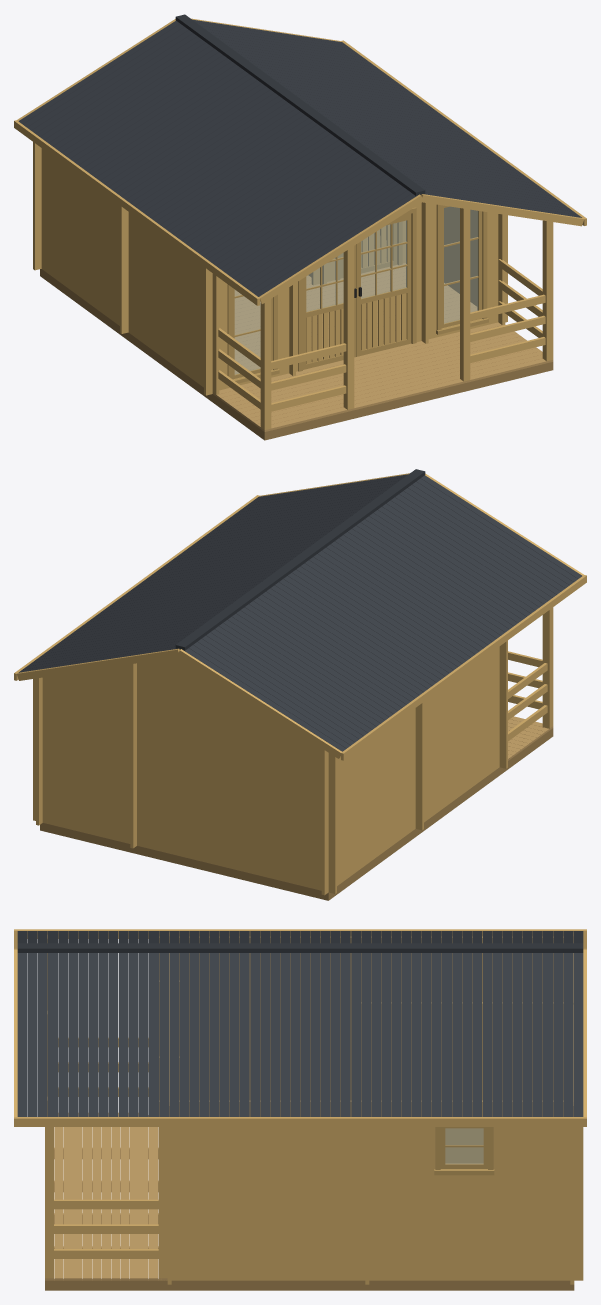
Rendered from апсны_4_5_4_5_44_мм_терраса_санузел.glb.
3 views of the same model, one above another, from view 1: azimuth 30°, elevation 25°; view 2: azimuth 150°, elevation 25°; view 3: azimuth 270°, elevation 25° (orthographic). The views are drawn at different scales.
Parts seen in each view (by area): view 1: roof, walls, terrace, Апсны 4,5×4,5 (44 мм, терраса, санузел), floor, object 33, object 58, object 47, object 15, object 41, object 21, object 61 (+3 smaller); view 2: roof, walls, Апсны 4,5×4,5 (44 мм, терраса, санузел), terrace; view 3: roof, walls, terrace, Апсны 4,5×4,5 (44 мм, терраса, санузел), object 91.
Part boxes in pixels (x1=…): roof: x1=14, y1=14, x2=586, y2=305; walls: x1=33, y1=142, x2=507, y2=395; terrace: x1=212, y1=208, x2=553, y2=431; Апсны 4,5×4,5 (44 мм, терраса, санузел): x1=40, y1=269, x2=553, y2=440; floor: x1=234, y1=233, x2=477, y2=373; object 33: x1=361, y1=220, x2=406, y2=298; object 58: x1=444, y1=207, x2=477, y2=323; object 47: x1=235, y1=290, x2=260, y2=374; object 15: x1=306, y1=253, x2=343, y2=311; object 41: x1=411, y1=207, x2=416, y2=343; object 21: x1=406, y1=213, x2=411, y2=344; object 61: x1=436, y1=205, x2=441, y2=330; roof: x1=14, y1=469, x2=586, y2=760; walls: x1=33, y1=640, x2=507, y2=895; Апсны 4,5×4,5 (44 мм, терраса, санузел): x1=40, y1=728, x2=553, y2=900; terrace: x1=508, y1=607, x2=553, y2=760; roof: x1=14, y1=929, x2=586, y2=1126; walls: x1=158, y1=932, x2=583, y2=1284; terrace: x1=45, y1=935, x2=167, y2=1280; Апсны 4,5×4,5 (44 мм, терраса, санузел): x1=45, y1=1115, x2=574, y2=1290; object 91: x1=445, y1=1128, x2=483, y2=1163.
Size of the model in its own units: 4.91 by 3.16 by 6.28.
